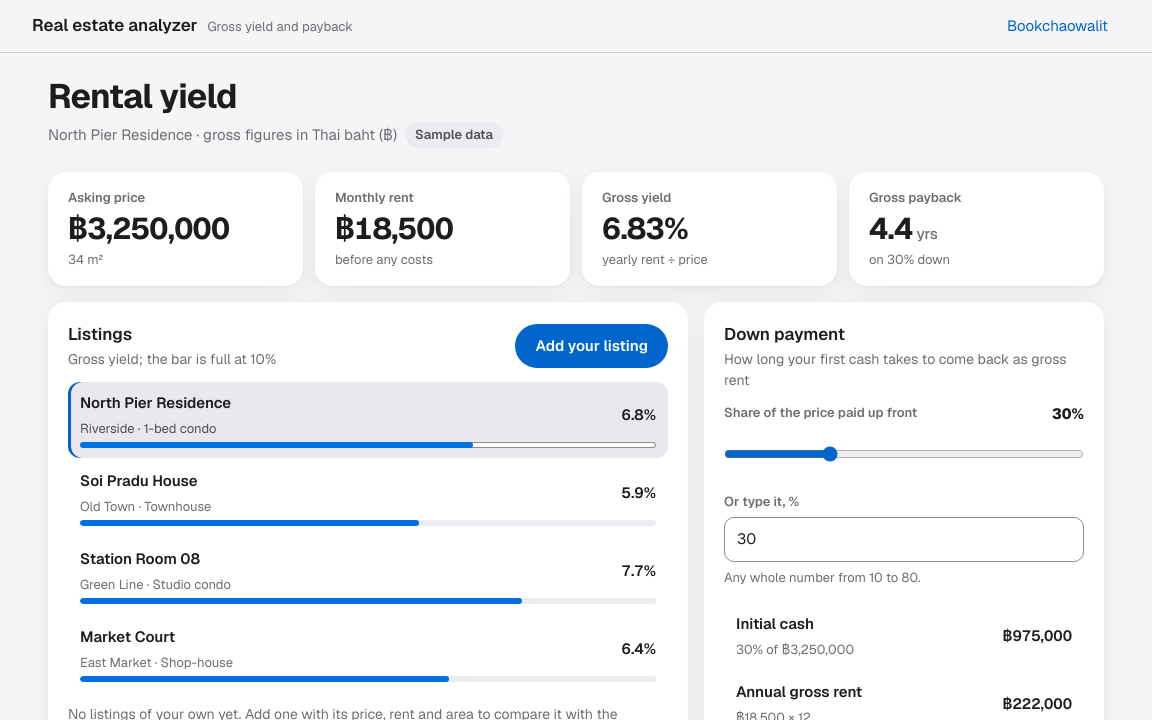
Test: rental yield page › selects another listing and recomputes every figure
Click the button "Market Court East Market · Shop-house 6.4%": (128, 637) [68,616,668,692]
(page scrolled)
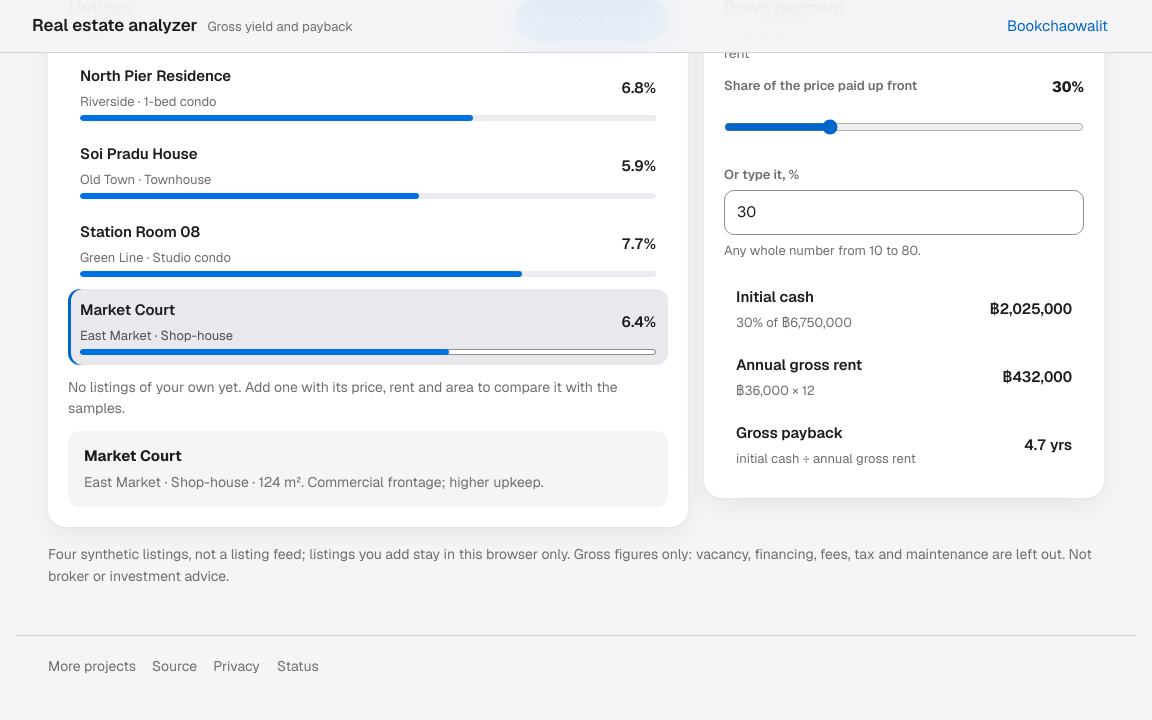
Expected: the element with class "ds-callout" does not show "payback"
Now the element with class "ds-callout" shows "Commercial frontage; higher upkeep.", box [308,473,544,491]
